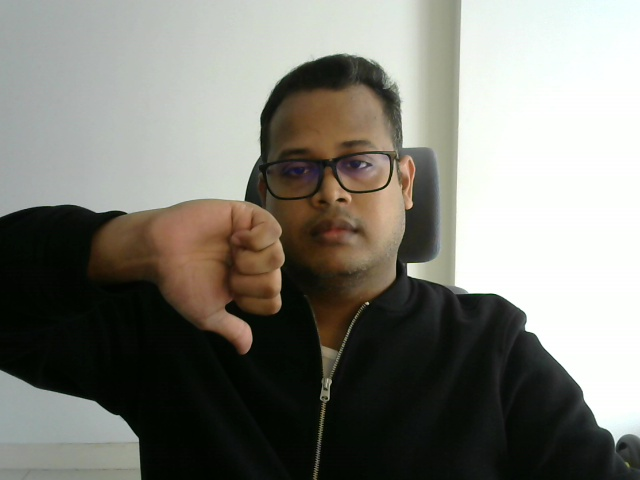ThumbsDown: (156, 199, 284, 354)
